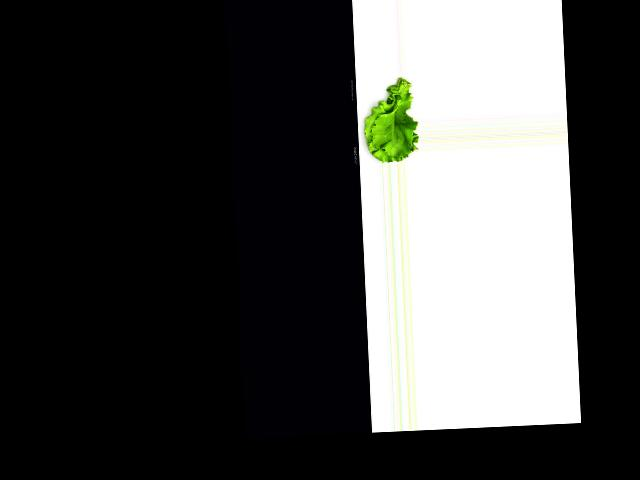lettuce: (357, 78, 420, 163)
